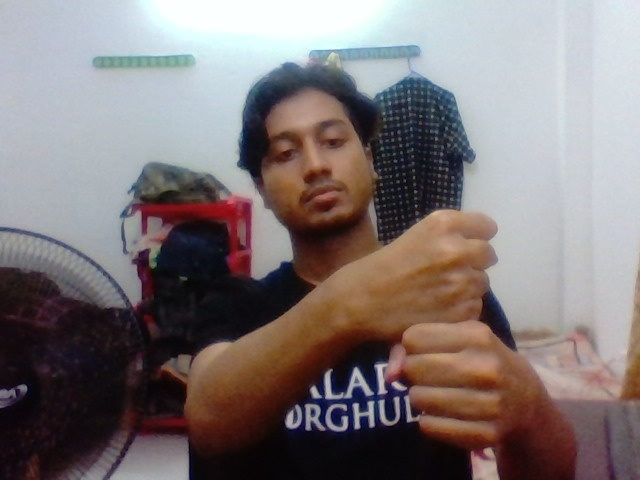G: (377, 198, 533, 450)
